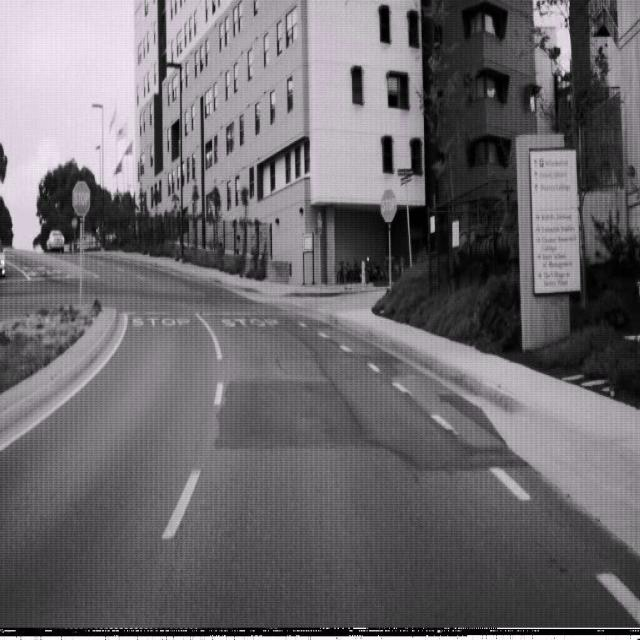stop_sign: (72, 179, 90, 216), (380, 188, 397, 222)
